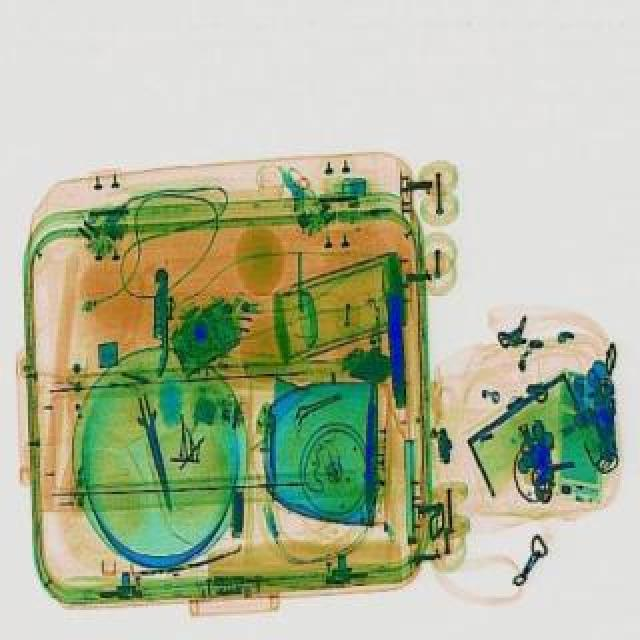knife: (130, 390, 182, 510)
